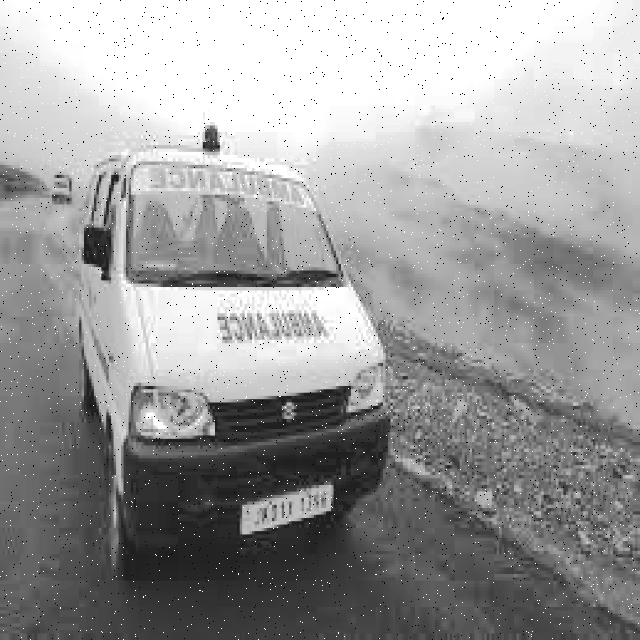Ambulance: (67, 108, 390, 572)
